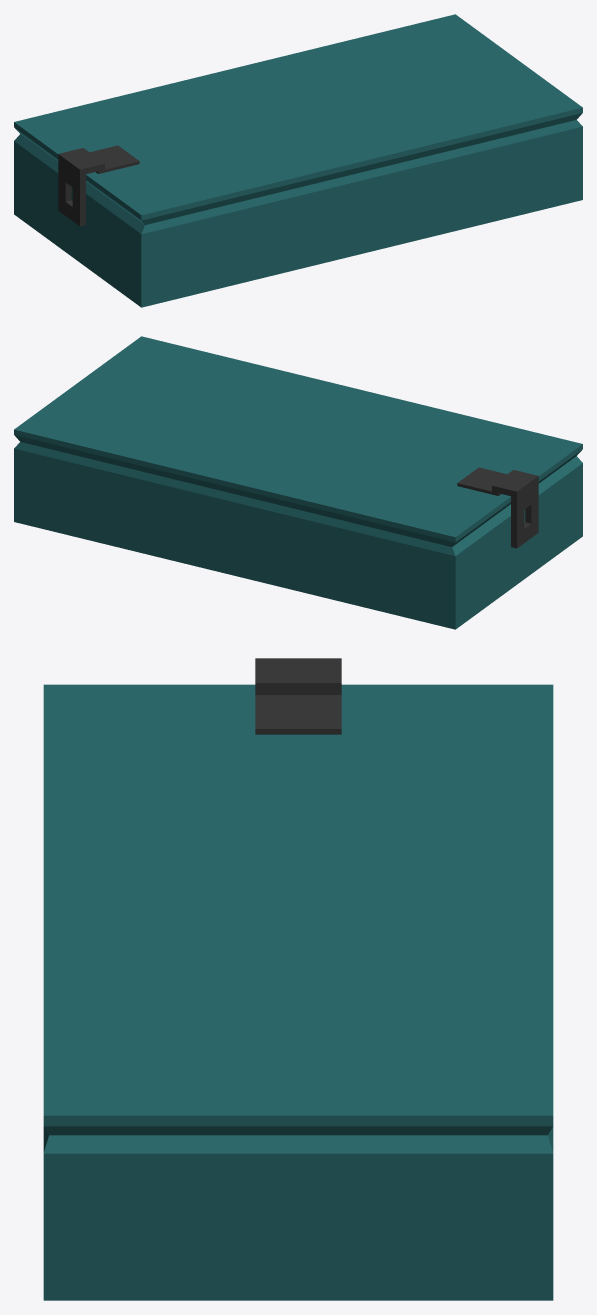
Rendered from lockBox.fbx.
3 views of the same model, one above another, from view 1: azimuth 30°, elevation 25°; view 2: azimuth 150°, elevation 25°; view 3: azimuth 270°, elevation 25° (orthographic). The views are drawn at different scales.
Visible parts, largest first — view 1: Cube; view 2: Cube; view 3: Cube.
Boxes of the visible parts, x1,y1,x2,y2 form: Cube: (14, 14, 582, 307); Cube: (14, 336, 582, 629); Cube: (43, 658, 553, 1300).
Size of the model in its own units: 50.97 by 10.97 by 25.
